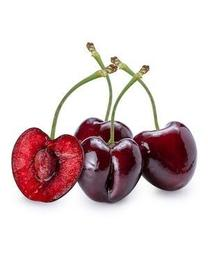cherry: (12, 127, 84, 203), (131, 120, 198, 191), (74, 136, 142, 204), (73, 116, 133, 175)
